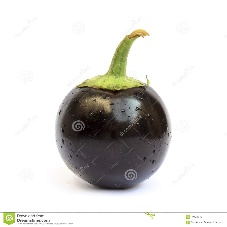eggplant: (62, 76, 171, 191)
